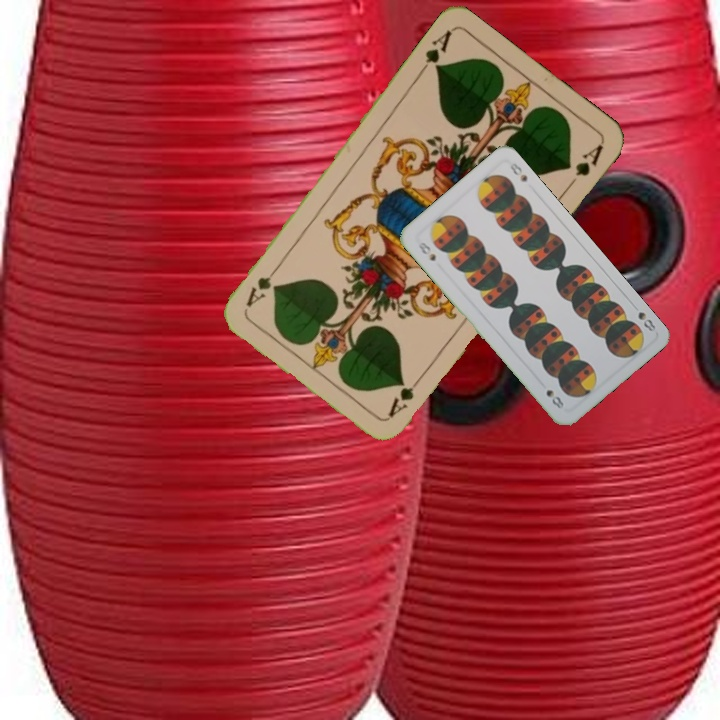GA: (384, 370, 427, 421), (414, 26, 455, 78)
S8: (414, 238, 438, 264), (634, 308, 658, 334)
